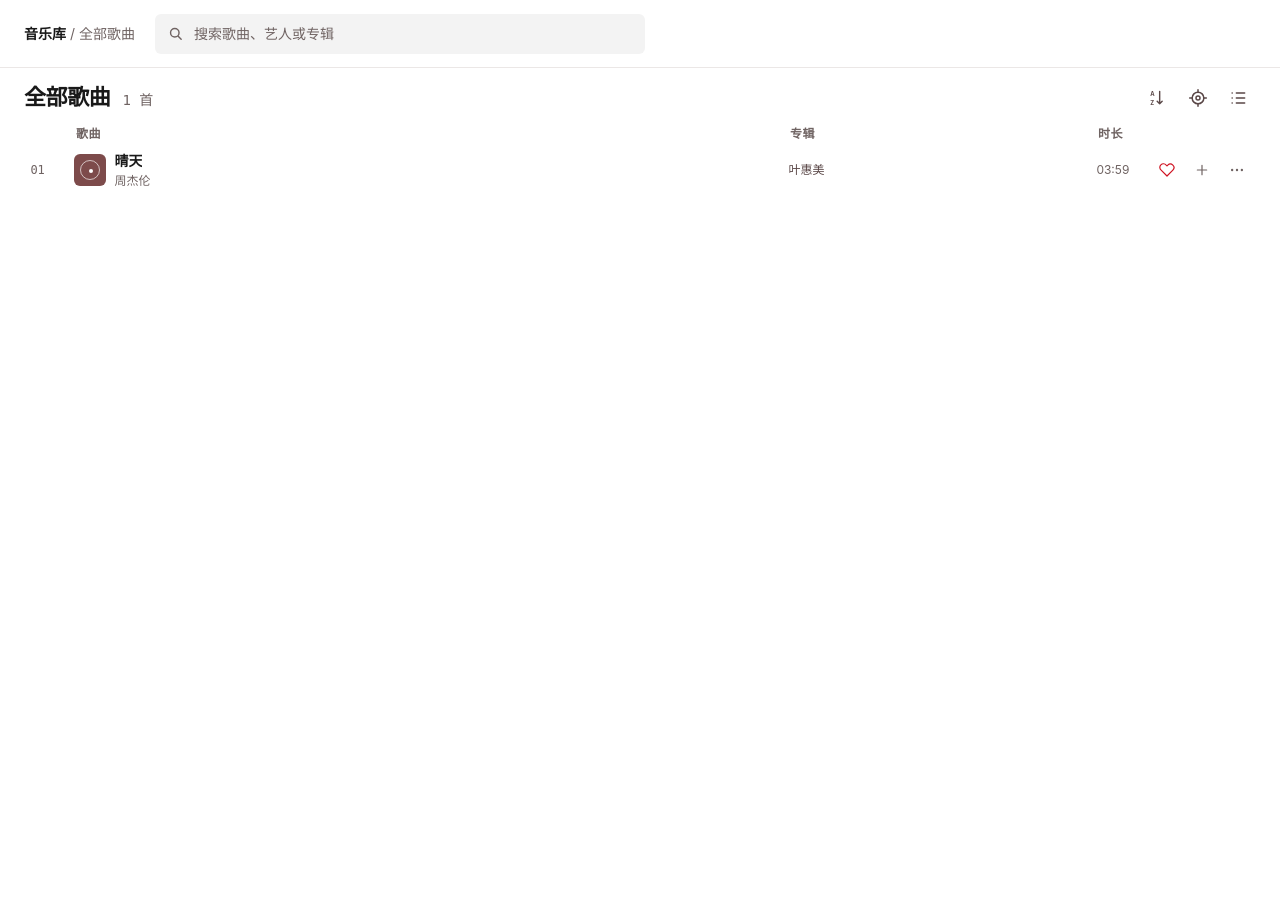
Scenario: LibraryWorkspace — 定位正在播放的歌曲 (LIB-LOC) › voices 当前没有正在播放的歌曲 when nothing is playing
Expected: the row with test id "song-row-song-1" is shown, [24,148,1256,192]
Click the button with test id "locate-song".
click(1198, 98)  # box [1180,80,1216,116]
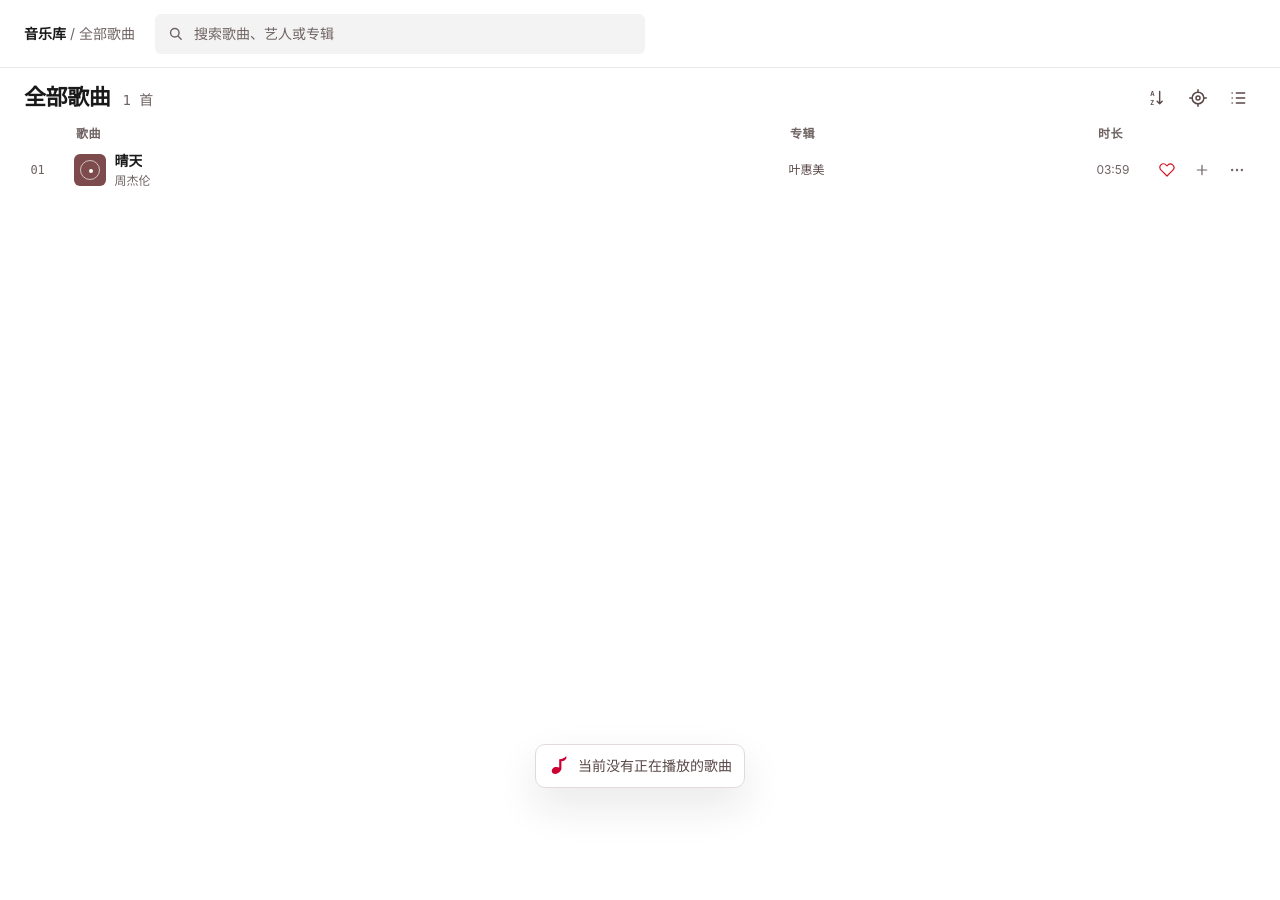
Expected: the message with test id "toast" reads "当前没有正在播放的歌曲", [578,757,732,774]
